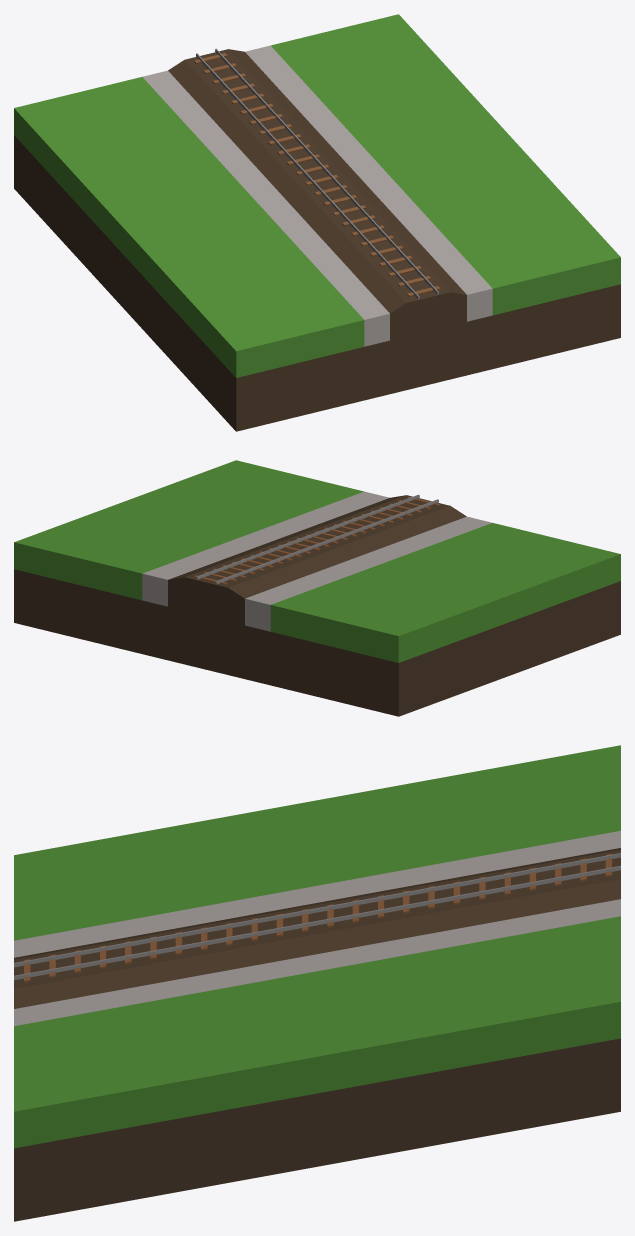
The model's file is tiles_tile-rail-hill.fbx.
3 views of the same model, one above another, from view 1: azimuth 30°, elevation 25°; view 2: azimuth 150°, elevation 25°; view 3: azimuth 270°, elevation 25° (orthographic). The views are drawn at different scales.
Visible parts, largest first — view 1: tiles_tile_rail_hill; view 2: tiles_tile_rail_hill; view 3: tiles_tile_rail_hill.
Boxes of the visible parts, x1=… form: tiles_tile_rail_hill: x1=14, y1=14, x2=620, y2=431; tiles_tile_rail_hill: x1=14, y1=460, x2=620, y2=716; tiles_tile_rail_hill: x1=14, y1=745, x2=620, y2=1221.
Size of the model in its own units: 200 by 84.97 by 200.
